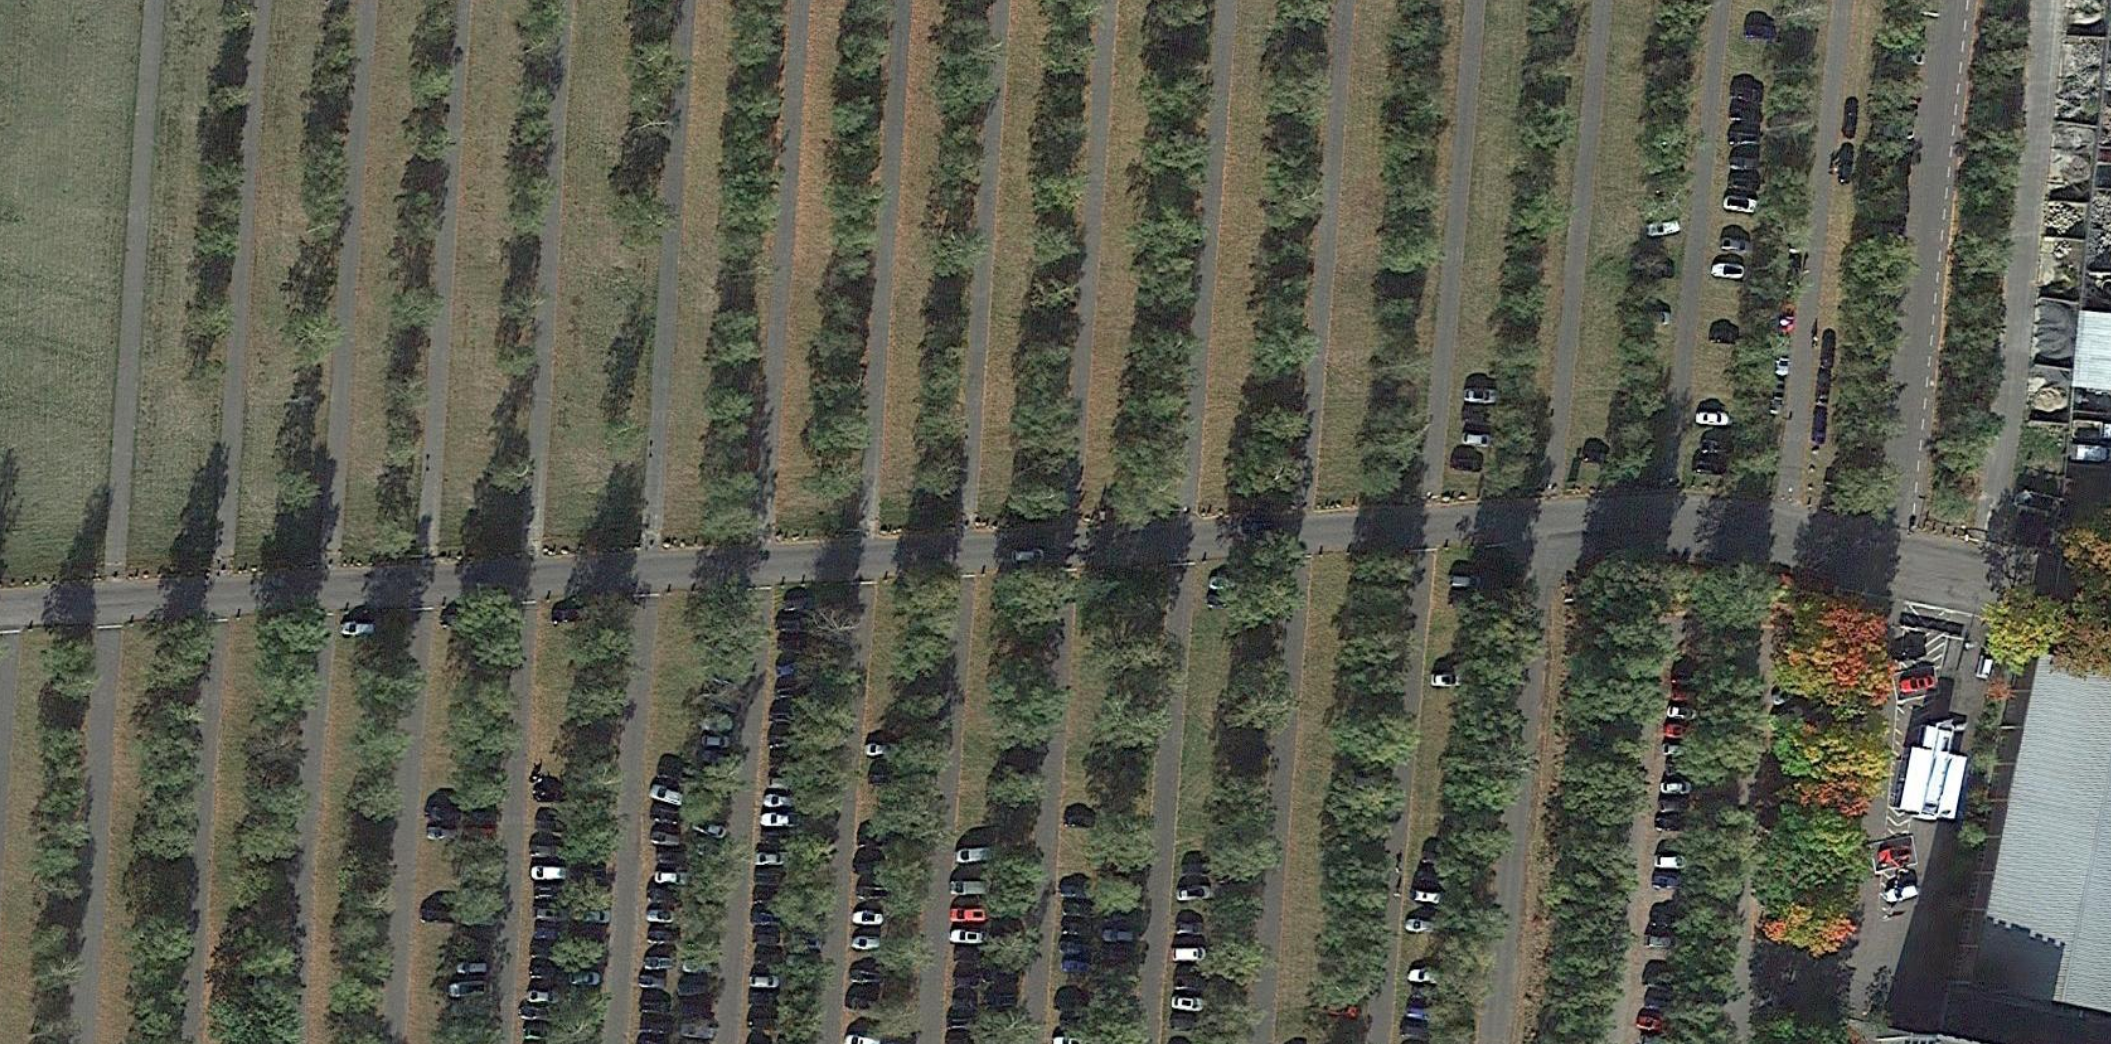car: (692, 815, 726, 841), (448, 979, 486, 1000), (648, 784, 683, 806), (1723, 195, 1760, 216), (956, 845, 994, 863), (1900, 674, 1935, 692), (1647, 218, 1679, 238), (949, 907, 985, 924), (1462, 387, 1497, 404), (1695, 410, 1730, 427), (949, 928, 984, 946), (1177, 884, 1212, 901), (1727, 174, 1760, 193), (950, 880, 991, 894), (1659, 779, 1692, 796), (1712, 261, 1745, 279), (852, 908, 885, 925), (755, 850, 790, 866), (530, 865, 565, 881), (1171, 947, 1206, 963), (1665, 705, 1700, 721), (1414, 886, 1443, 905), (701, 733, 732, 750), (425, 824, 456, 842), (761, 814, 800, 827), (654, 870, 687, 886), (1171, 996, 1204, 1012), (341, 621, 376, 636), (851, 934, 882, 950), (569, 970, 600, 986), (580, 908, 611, 924), (1459, 430, 1489, 446), (1721, 237, 1750, 253), (1730, 156, 1760, 172), (650, 830, 680, 846), (1101, 929, 1136, 943), (1431, 672, 1462, 687), (644, 956, 674, 971), (762, 793, 796, 807), (456, 960, 490, 974), (749, 911, 778, 925), (1406, 917, 1432, 934), (534, 908, 565, 921), (1745, 24, 1774, 38), (646, 909, 674, 923), (749, 975, 780, 987), (529, 990, 556, 1004)
